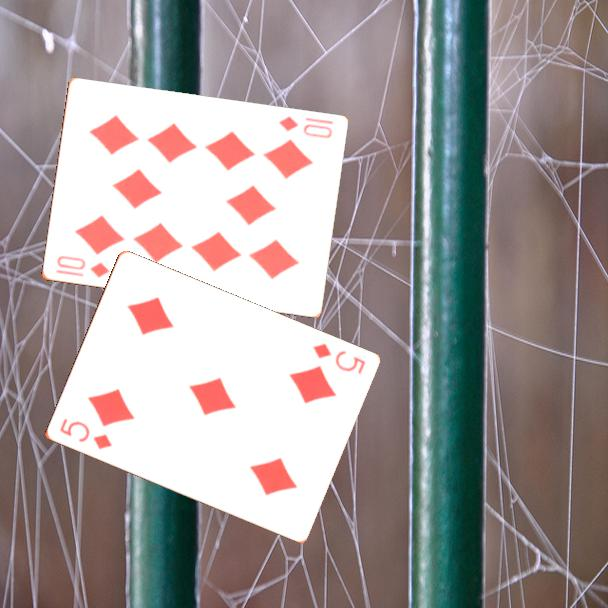d05: (55, 415, 115, 453), (309, 340, 368, 377)
d10: (53, 252, 112, 281), (275, 113, 336, 141)
